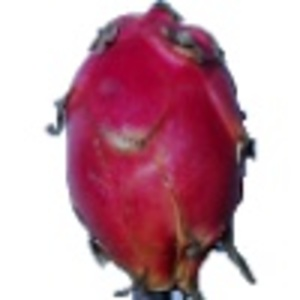pitaia: (47, 1, 260, 300)
